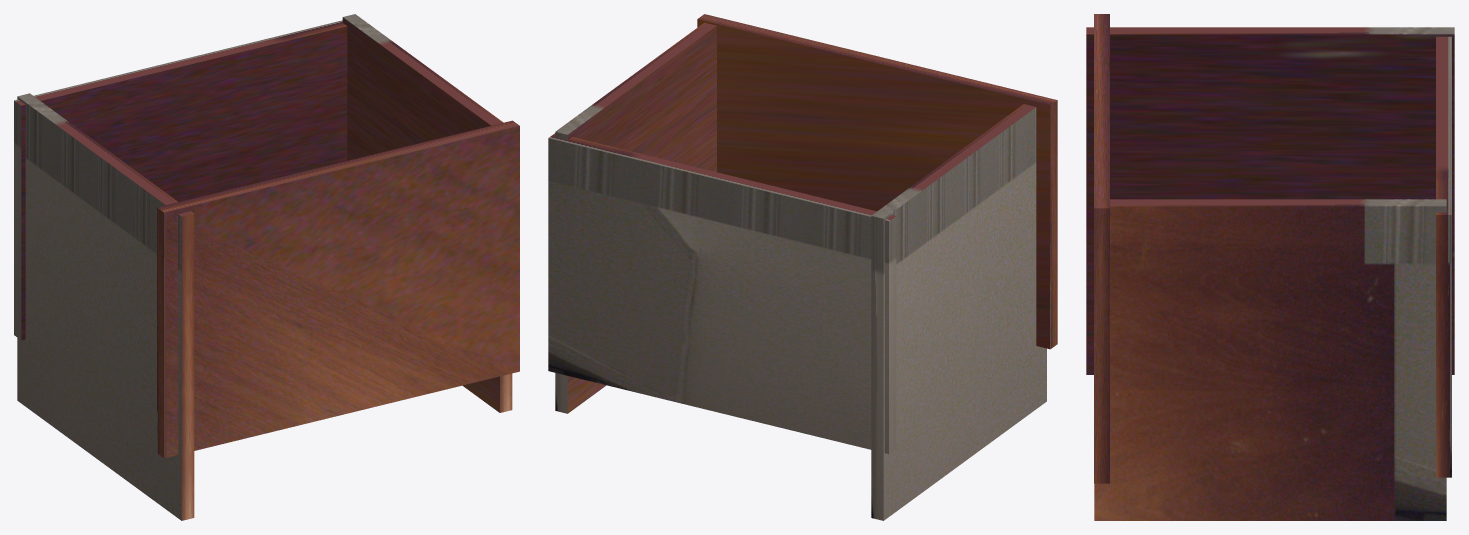
The model's file is room.glb.
3 renders of one model, left to right at view 1: azimuth 30°, elevation 25°; view 2: azimuth 150°, elevation 25°; view 3: azimuth 270°, elevation 25°, orthographic. The views are drawn at different scales.
Parts seen in each view (by area): view 1: Cube.001-Col, Cube.003-Col, Cube-Col, Cube.002-Col; view 2: Cube-Col, Cube.003-Col, Cube.001-Col, Cube.002-Col; view 3: Cube.002-Col, Cube.003-Col, Cube.001-Col, Cube-Col.
Part boxes in pixels (x1=…): Cube.001-Col: x1=157, y1=120, x2=519, y2=458; Cube.003-Col: x1=17, y1=93, x2=194, y2=520; Cube-Col: x1=14, y1=20, x2=347, y2=340; Cube.002-Col: x1=342, y1=14, x2=512, y2=412; Cube-Col: x1=548, y1=133, x2=896, y2=453; Cube.003-Col: x1=871, y1=104, x2=1046, y2=520; Cube.001-Col: x1=697, y1=14, x2=1057, y2=349; Cube.002-Col: x1=555, y1=22, x2=716, y2=413; Cube.002-Col: x1=1094, y1=199, x2=1446, y2=520; Cube.003-Col: x1=1086, y1=27, x2=1454, y2=374; Cube.001-Col: x1=1094, y1=14, x2=1109, y2=483; Cube-Col: x1=1436, y1=36, x2=1451, y2=477.
Bounding box in the file's own units: 56.56 × 46.99 × 45.28.
5 materials, 5 textured.
